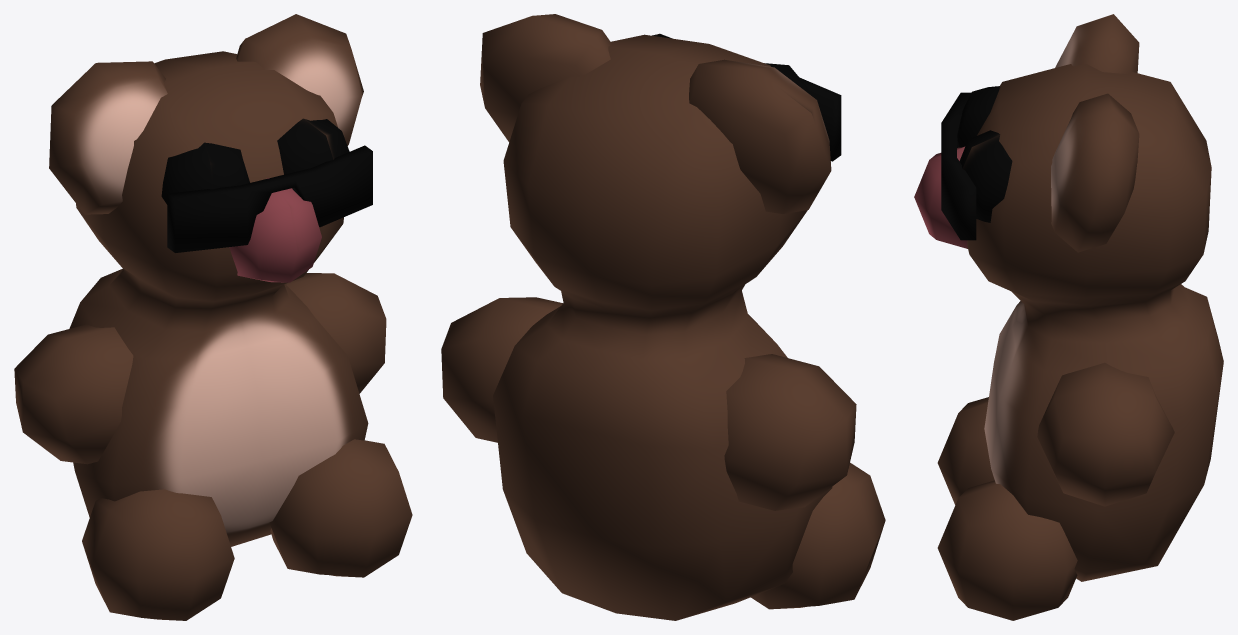
The model's file is ber.glb.
3 views of the same model, side by side, from view 1: azimuth 30°, elevation 25°; view 2: azimuth 150°, elevation 25°; view 3: azimuth 270°, elevation 25° (orthographic). The views are drawn at different scales.
Parts seen in each view (by area): view 1: Cube.001; view 2: Cube.001; view 3: Cube.001.
Boxes of the visible parts, left/top/right/bottom form: Cube.001: left=14, top=14, right=412, bottom=620; Cube.001: left=441, top=14, right=885, bottom=620; Cube.001: left=914, top=14, right=1223, bottom=620.
Bounding box in the file's own units: 1.29 × 1.81 × 0.9947.
Materials: 1 (1 with a texture image).
